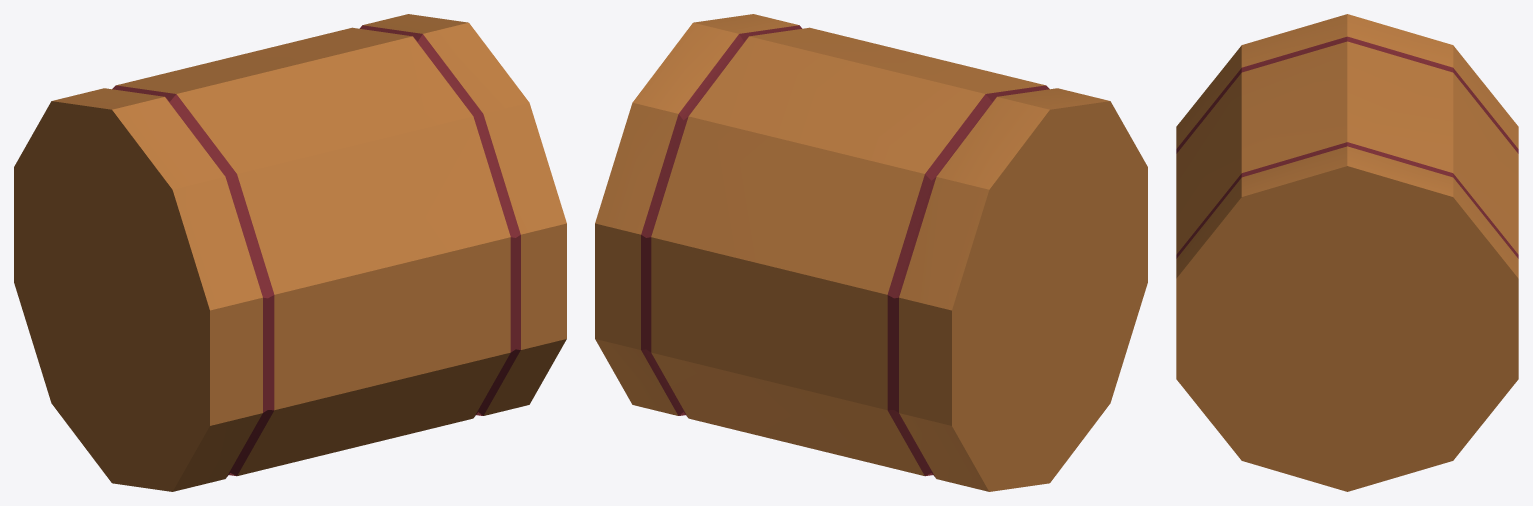
Rendered from SM_Hay_LOD0.fbx.
The picture shows the model from 3 angles, left to right: view 1: azimuth 30°, elevation 25°; view 2: azimuth 150°, elevation 25°; view 3: azimuth 270°, elevation 25°; orthographic projection. The views are drawn at different scales.
Visible parts, largest first — view 1: SM_Hay_LOD0; view 2: SM_Hay_LOD0; view 3: SM_Hay_LOD0.
Part boxes in pixels (left/top/right/bottom): SM_Hay_LOD0: left=14, top=14, right=566, bottom=491; SM_Hay_LOD0: left=595, top=14, right=1147, bottom=491; SM_Hay_LOD0: left=1176, top=14, right=1518, bottom=491.
Bounding box in the file's own units: 3.85 × 3.85 × 3.66.
